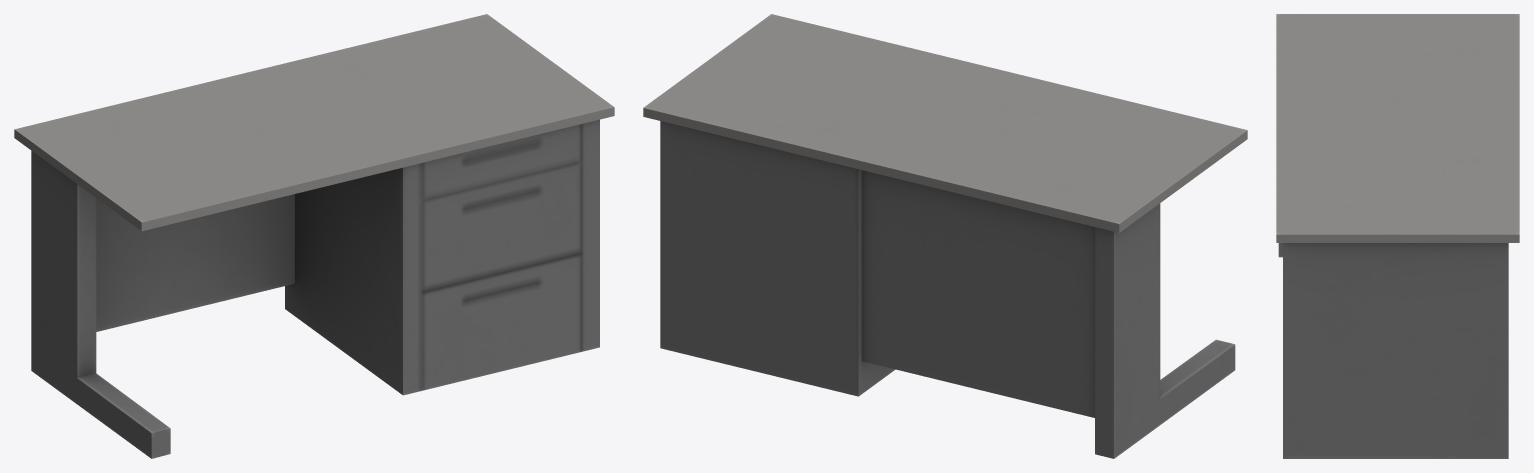
Rendered from sb_obj_ModernCity038_officedesk.fbx.
3 renders of one model, left to right at view 1: azimuth 30°, elevation 25°; view 2: azimuth 150°, elevation 25°; view 3: azimuth 270°, elevation 25°, orthographic. The views are drawn at different scales.
Visible parts, largest first — view 1: sb_obj_ModernCity038_officedesk; view 2: sb_obj_ModernCity038_officedesk; view 3: sb_obj_ModernCity038_officedesk.
Boxes of the visible parts, x1,y1,x2,y2 form: sb_obj_ModernCity038_officedesk: (14, 14, 614, 458); sb_obj_ModernCity038_officedesk: (643, 14, 1247, 458); sb_obj_ModernCity038_officedesk: (1276, 14, 1519, 458).
Size of the model in its own units: 1.24 by 0.6005 by 0.5773.
1 material, 1 textured.
